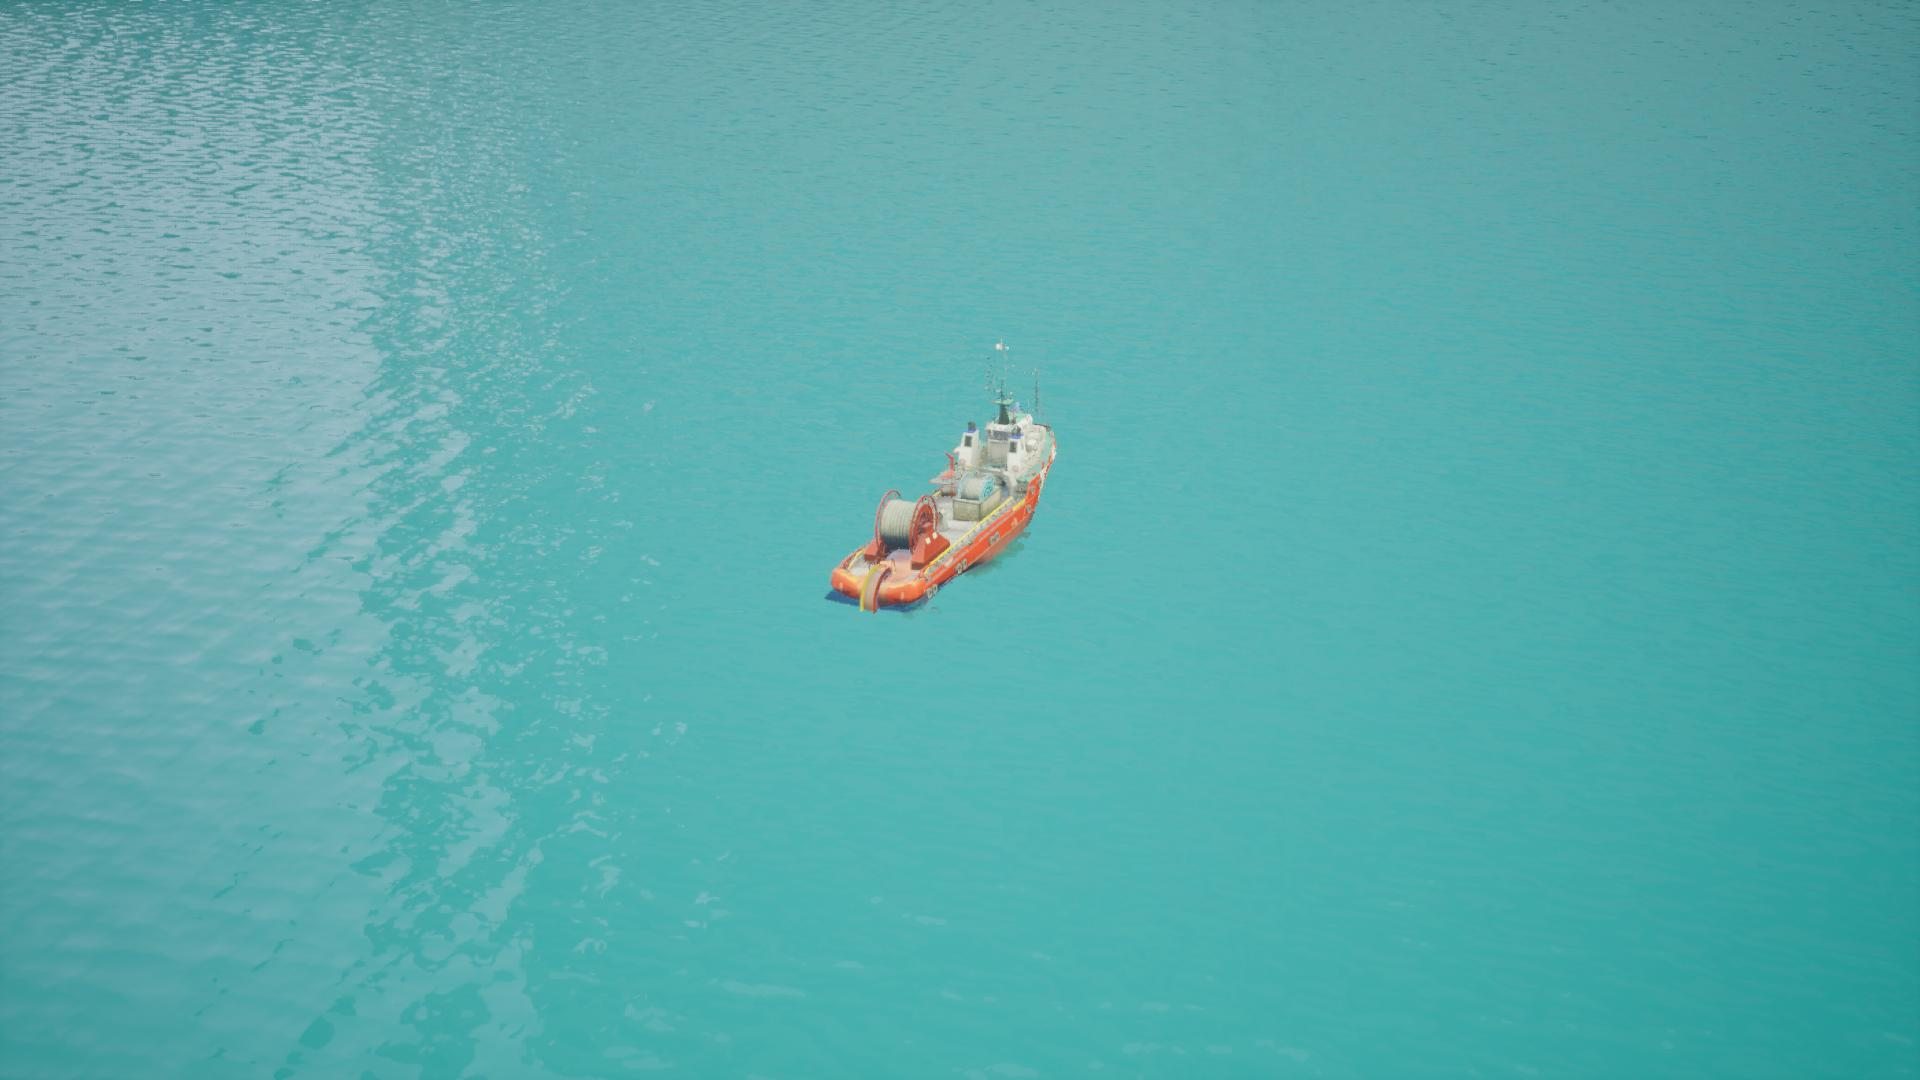Tug Boat: (886, 341, 1057, 608)
